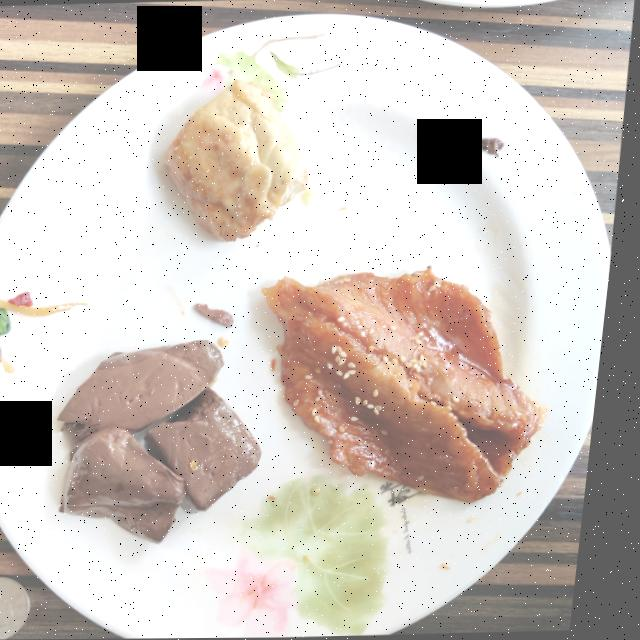Kabayaki sea bream fillet: (270, 269, 555, 503)
coin: (0, 576, 42, 640)
pig blood curd: (67, 340, 231, 543), (153, 387, 270, 513)
